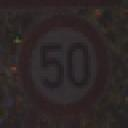speed_limit_50: (21, 14, 108, 114)
